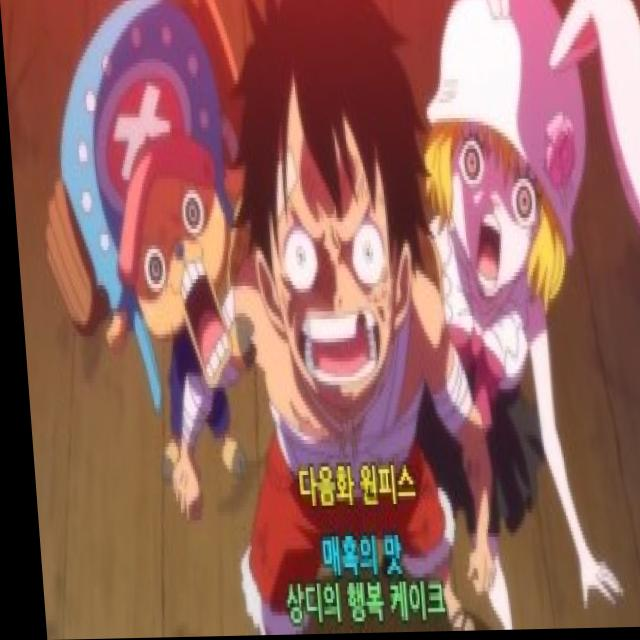Chyopa: (21, 0, 247, 396)
Luffy: (217, 0, 429, 408)
